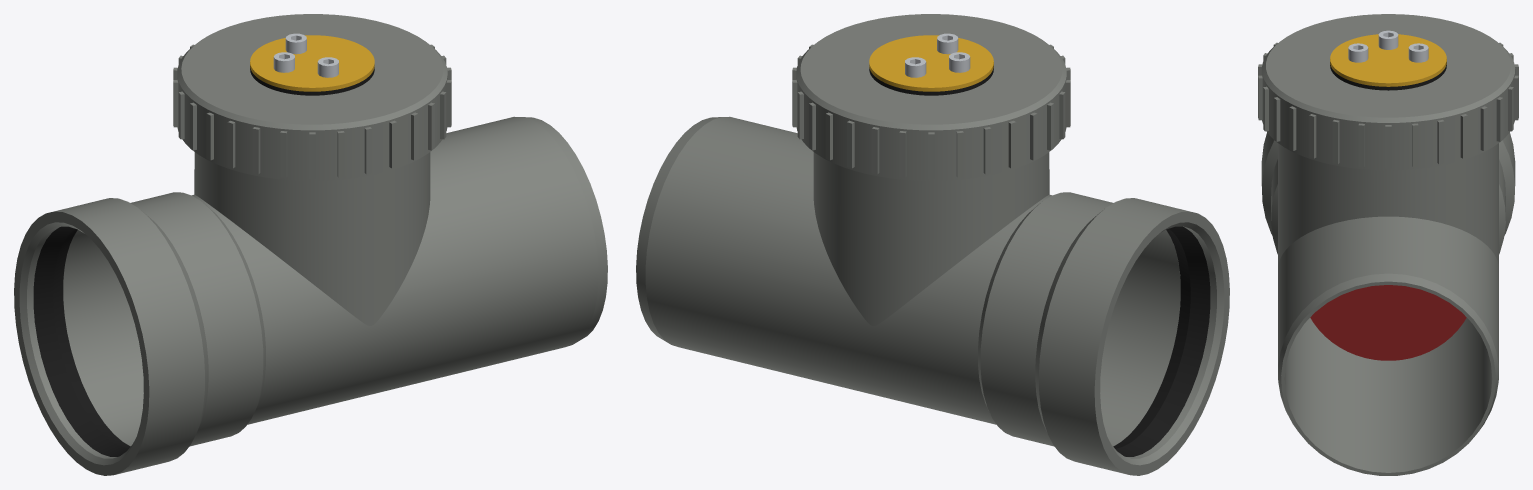
3 renders of one model, left to right at view 1: azimuth 30°, elevation 25°; view 2: azimuth 150°, elevation 25°; view 3: azimuth 270°, elevation 25°, orthographic. The views are drawn at different scales.
Visible parts, largest first — view 1: b3, b7, b4, b44; view 2: b3, b7, b4, b44; view 3: b3, b7, b23, b44, b42, b48, b50, b46.
Part boxes in pixels (bbox=[...]): b3: bbox=[14, 116, 607, 475]; b7: bbox=[173, 14, 451, 180]; b4: bbox=[33, 226, 130, 456]; b44: bbox=[250, 35, 374, 91]; b3: bbox=[636, 116, 1229, 475]; b7: bbox=[792, 14, 1070, 180]; b4: bbox=[1113, 226, 1210, 456]; b44: bbox=[869, 35, 993, 91]; b3: bbox=[1261, 132, 1515, 475]; b7: bbox=[1258, 14, 1518, 170]; b23: bbox=[1310, 285, 1466, 360]; b44: bbox=[1330, 34, 1446, 86]; b42: bbox=[1330, 62, 1446, 90]; b48: bbox=[1408, 43, 1428, 62]; b50: bbox=[1348, 43, 1368, 62]; b46: bbox=[1378, 30, 1398, 49].
Bounding box in the file's own units: 252 × 185 × 130.
